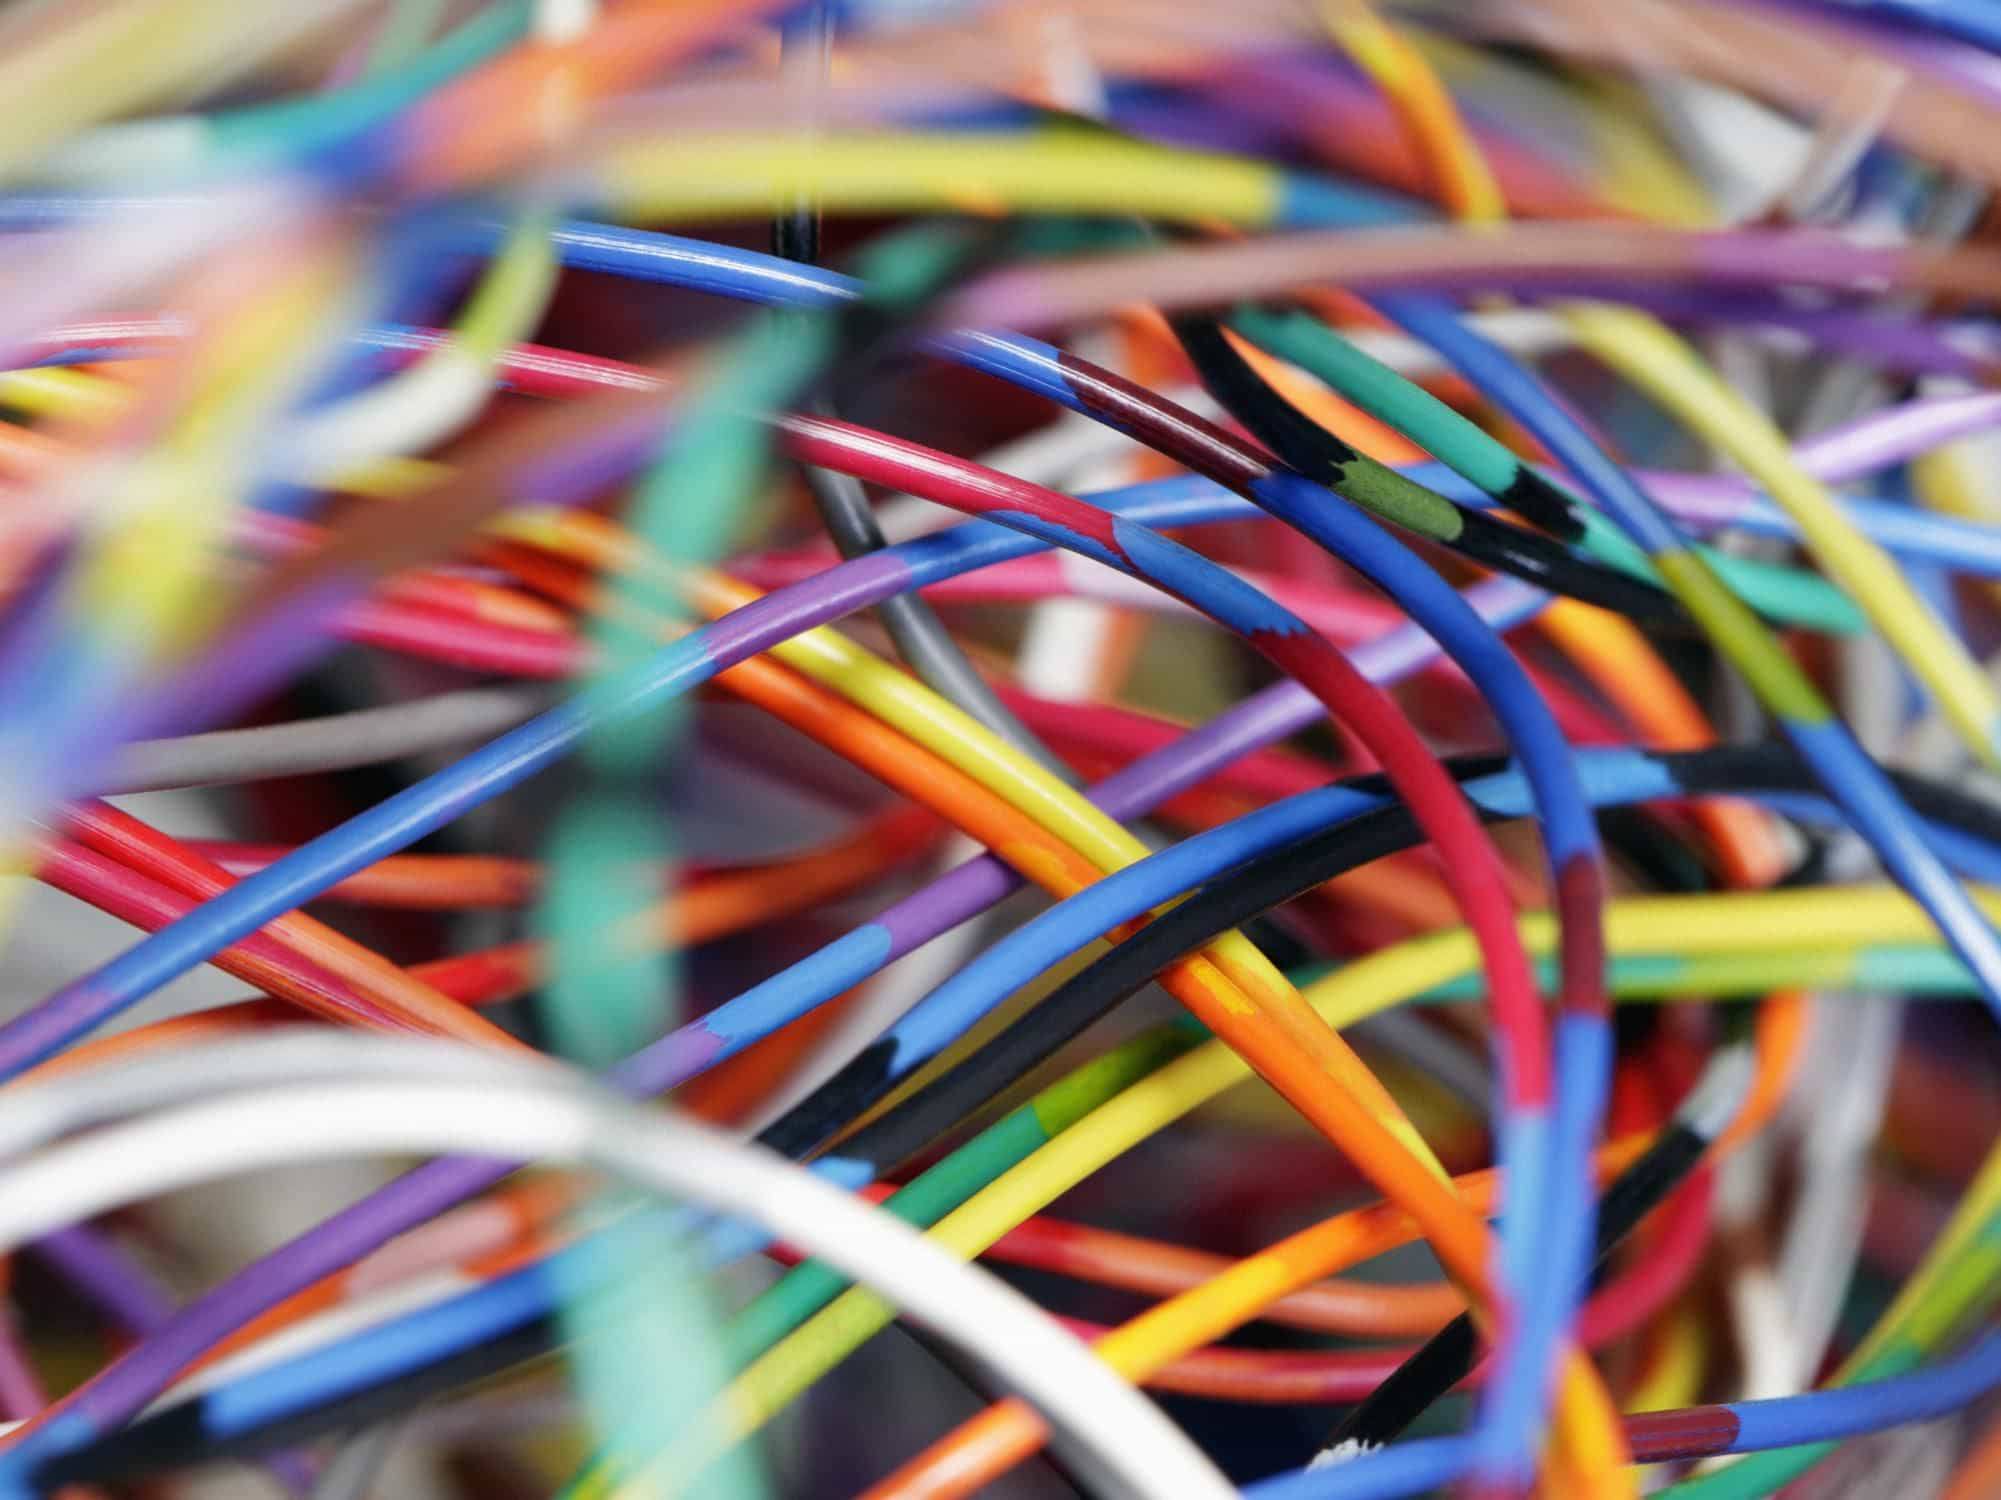Nonrec_Tangler: (22, 65, 1981, 1368)
